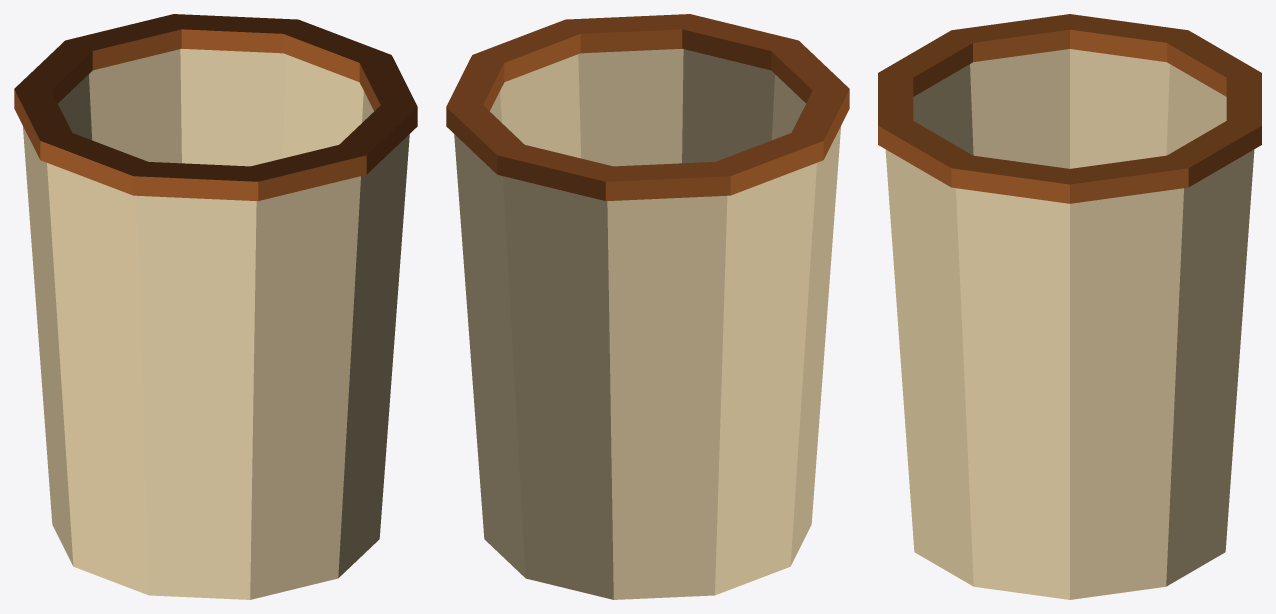
Rendered from Trash Can 4.fbx.
The picture shows the model from 3 angles, left to right: view 1: azimuth 30°, elevation 25°; view 2: azimuth 150°, elevation 25°; view 3: azimuth 270°, elevation 25°; orthographic projection.
Visible parts, largest first — view 1: Node 0; view 2: Node 0; view 3: Node 0.
Boxes of the visible parts, x1,y1,x2,y2 form: Node 0: (14, 14, 417, 599); Node 0: (446, 14, 849, 599); Node 0: (878, 14, 1261, 599).
Size of the model in its own units: 0.2881 by 0.3574 by 0.3029.
